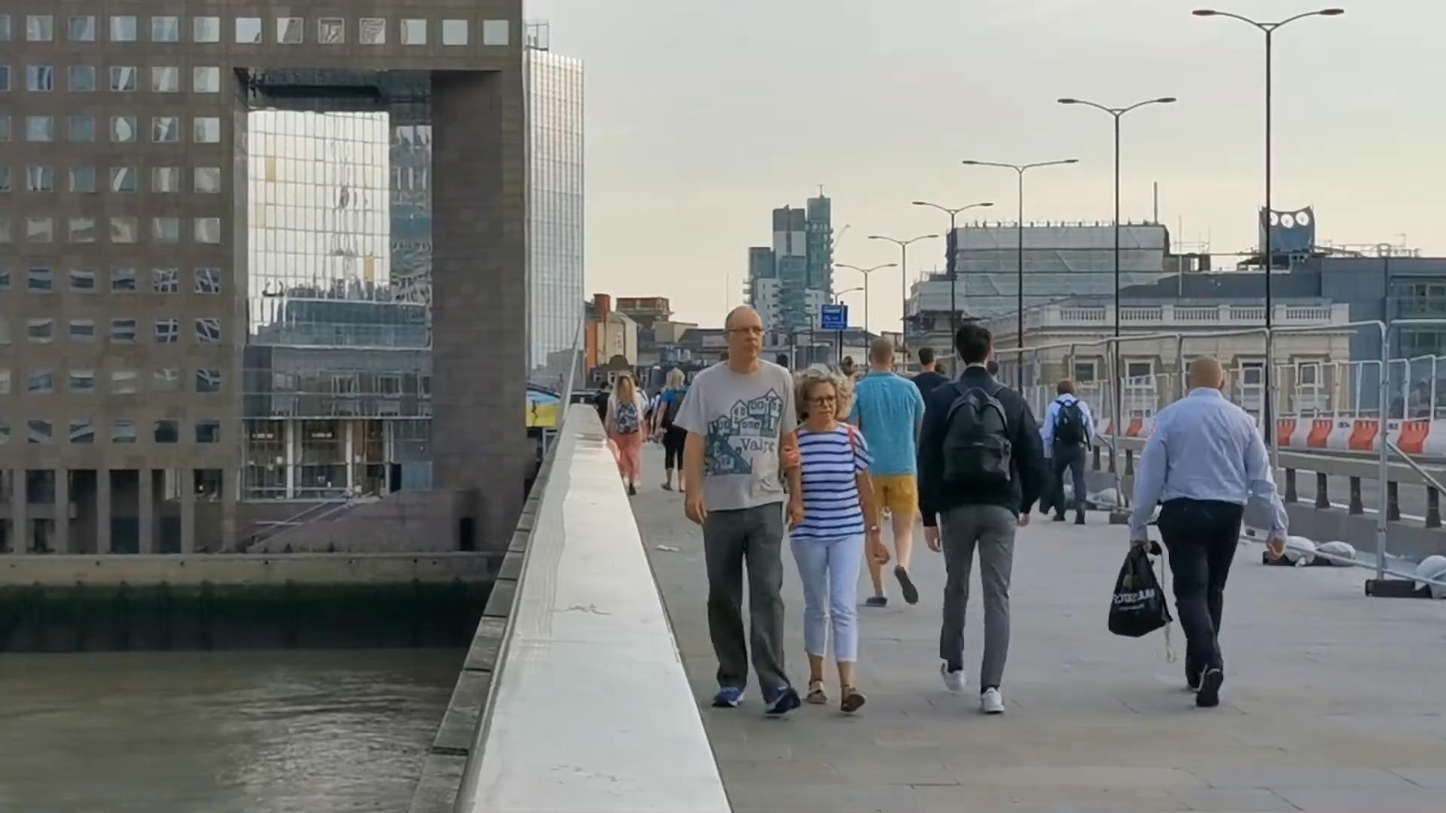no-helmet: (795, 363, 856, 422), (723, 305, 765, 360), (956, 325, 994, 366), (1185, 356, 1226, 391), (869, 337, 896, 369), (613, 375, 635, 399), (666, 367, 685, 390), (918, 347, 936, 369)
